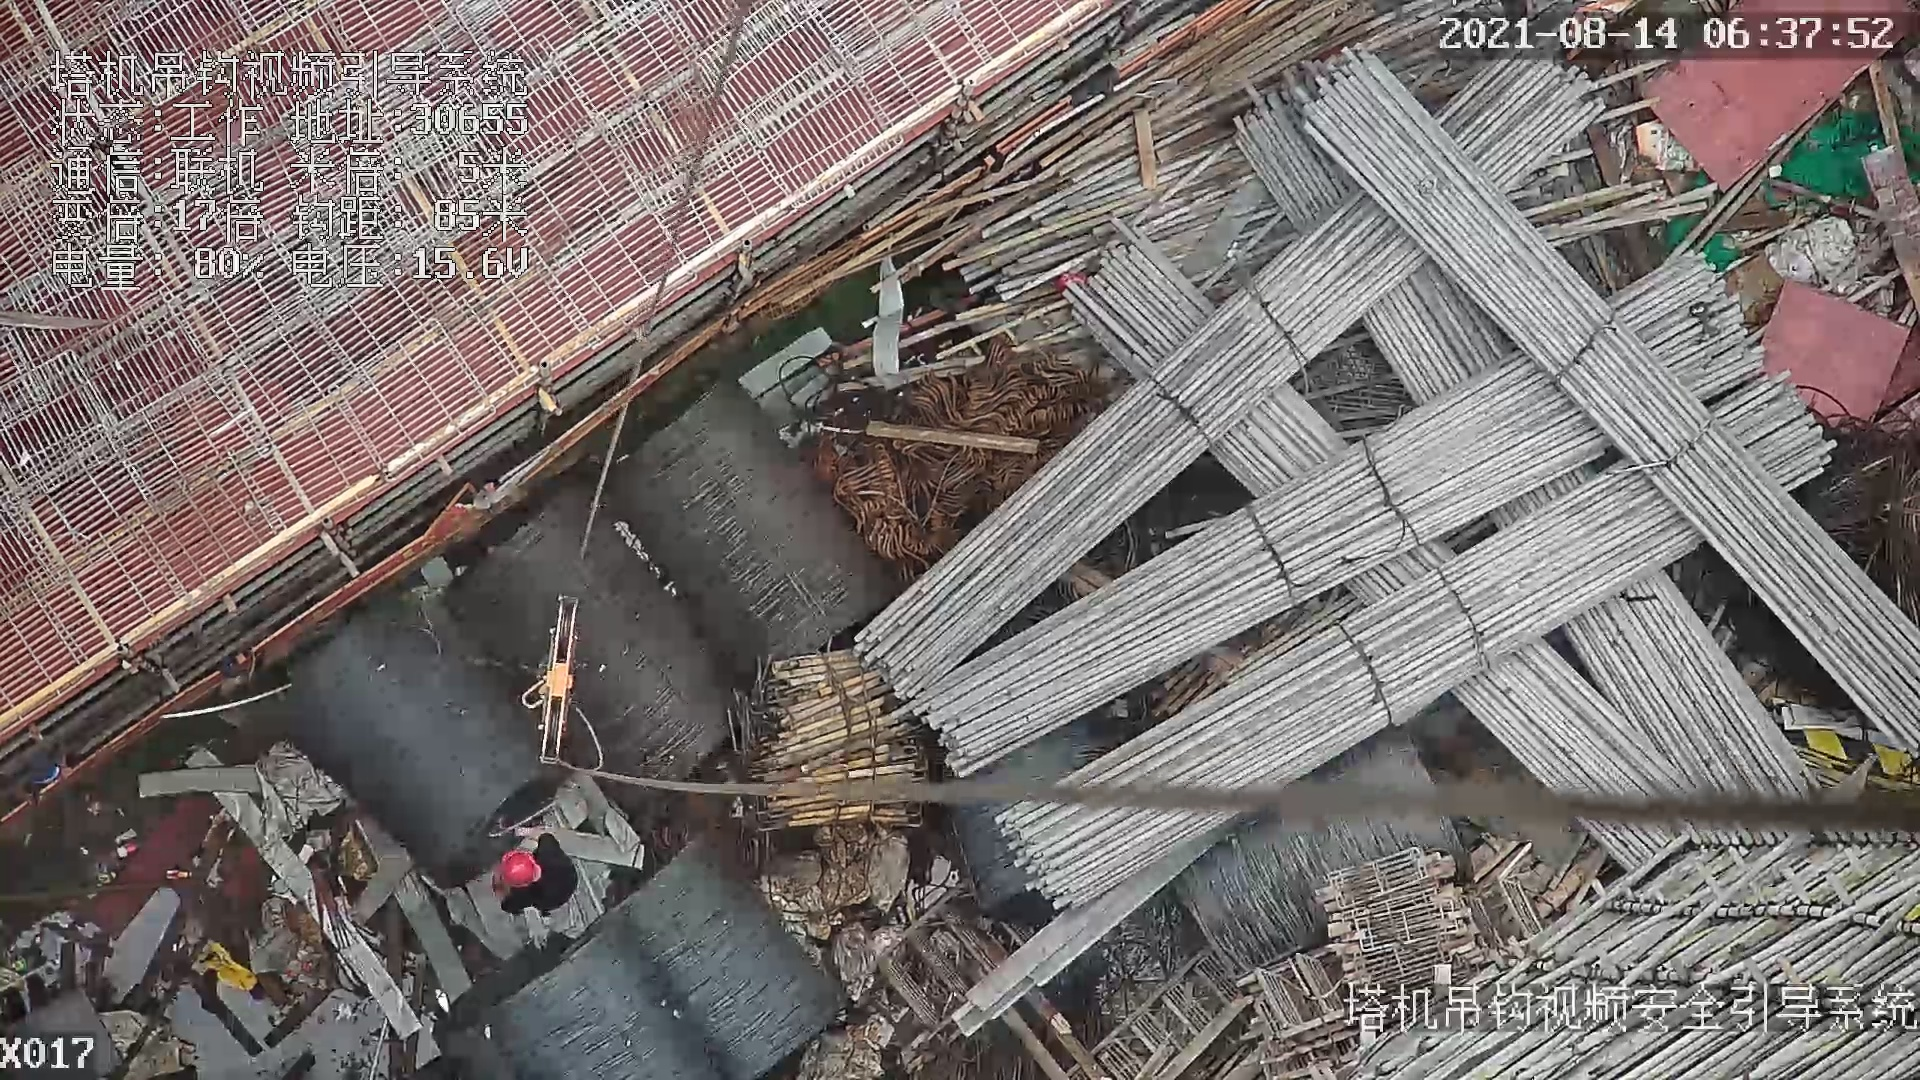helmet: (496, 845, 549, 899)
hook: (520, 591, 583, 771)
person: (486, 827, 590, 927)
scaffold: (906, 45, 1903, 842), (674, 613, 919, 836)
